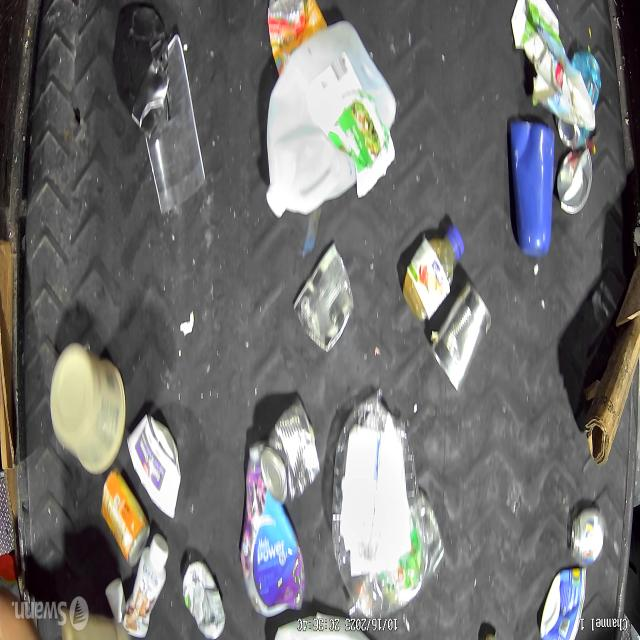can: (291, 236, 358, 360), (260, 398, 322, 510), (433, 284, 495, 395), (100, 463, 149, 564)
milk_jug: (264, 19, 398, 229)
